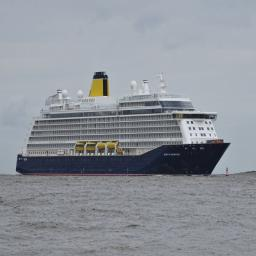cruises: (15, 71, 233, 181)
